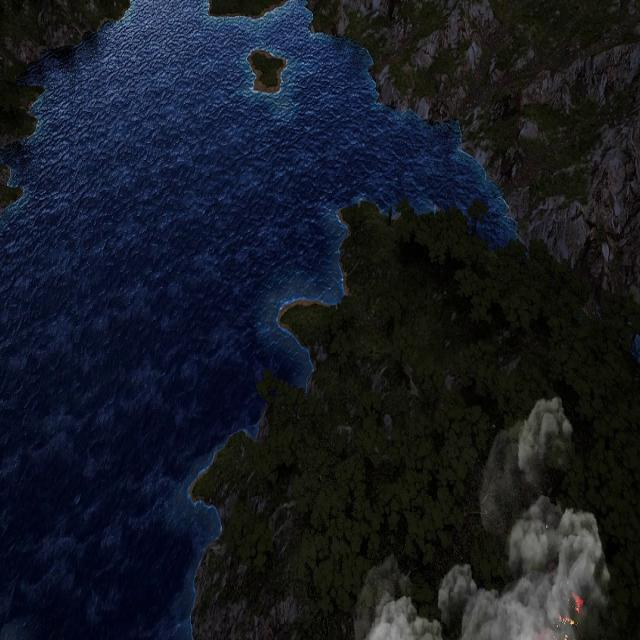smoke: (357, 394, 620, 640)
